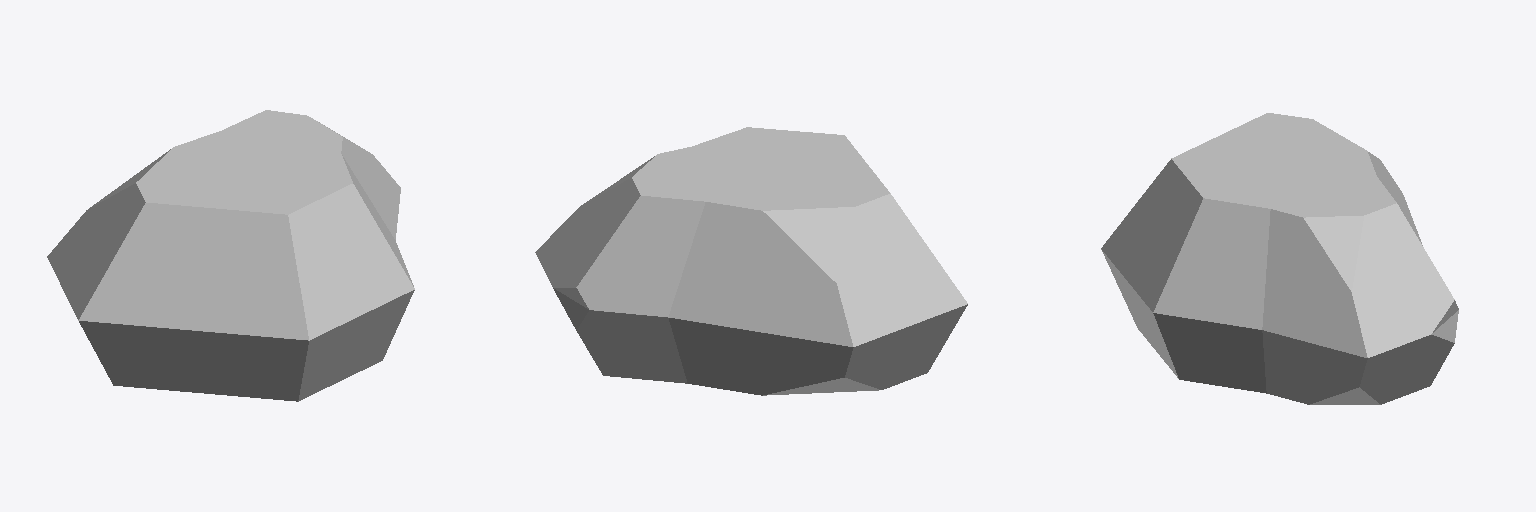
File: rock_large6.obj
The picture shows the model from 3 angles: view 1: azimuth 30°, elevation 25°; view 2: azimuth 150°, elevation 25°; view 3: azimuth 270°, elevation 25°; orthographic projection.
Visible parts, largest first — view 1: rock_large6; view 2: rock_large6; view 3: rock_large6.
Part boxes in pixels (left/top/right/bottom): rock_large6: left=47, top=110, right=414, bottom=401; rock_large6: left=535, top=127, right=967, bottom=395; rock_large6: left=1101, top=113, right=1458, bottom=404.
Size of the model in its own units: 10.95 by 4.79 by 8.99.